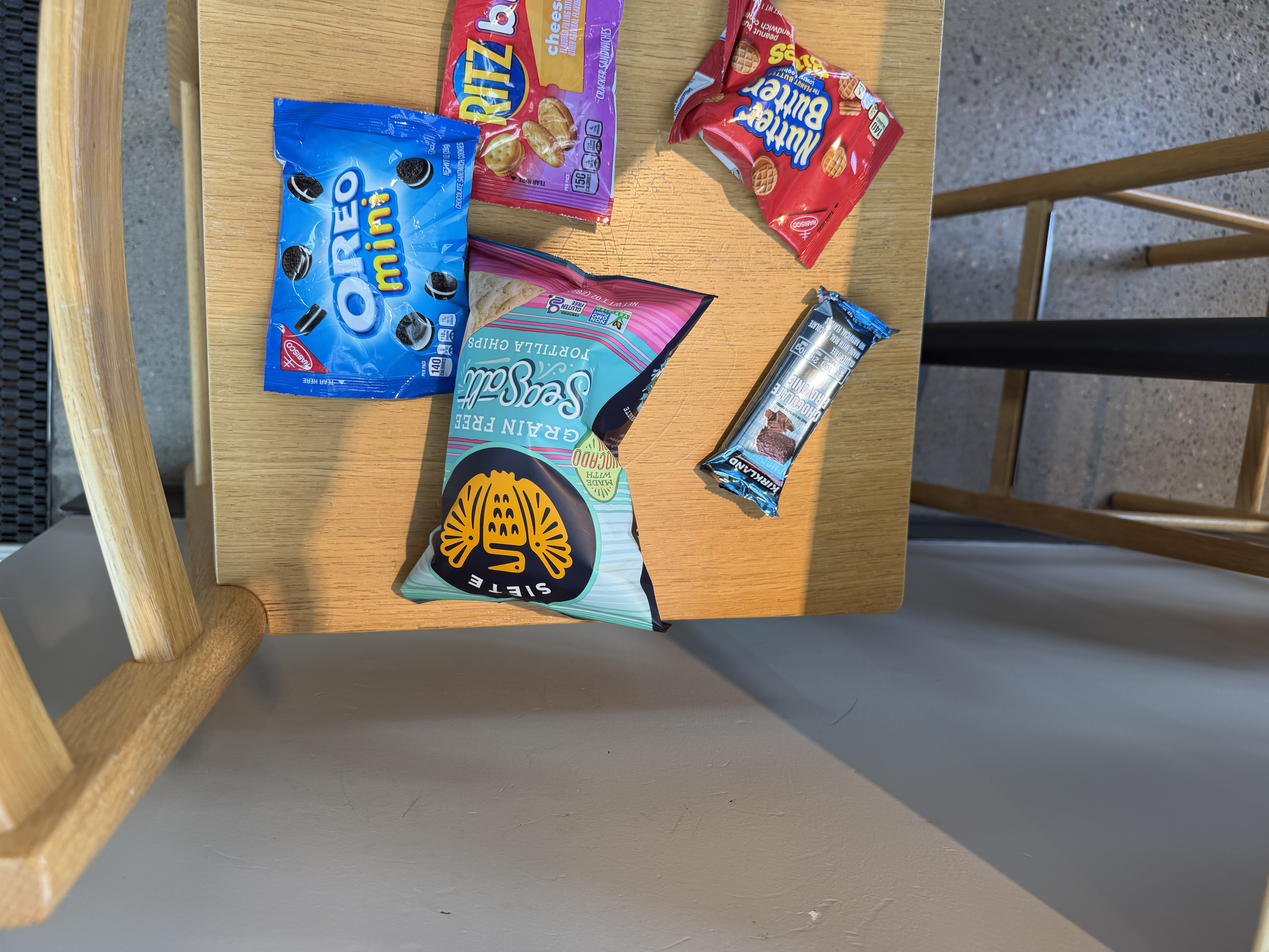chocolate_brownie: (713, 285, 894, 532)
nutter_butter: (664, 4, 910, 275)
oreo_mini: (262, 91, 482, 408)
ritz_cheese: (435, 0, 617, 226)
sea_salt: (434, 237, 692, 650)
